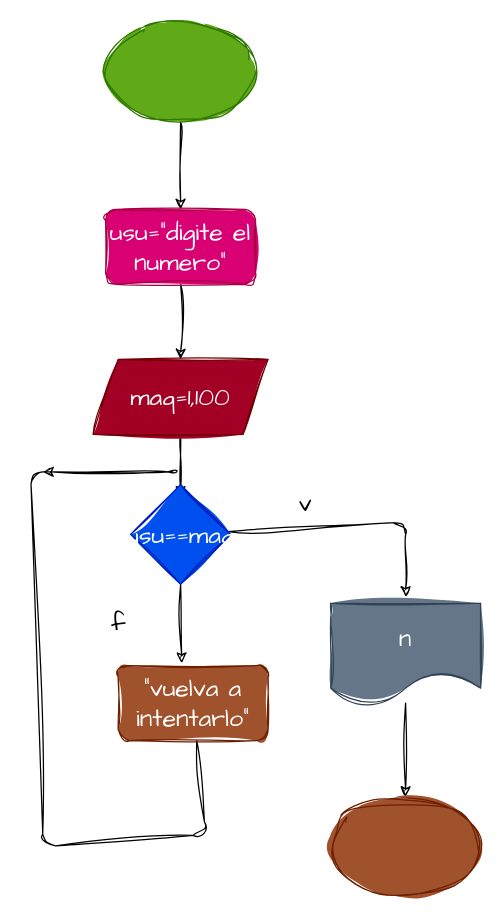
The diagram is 503 pixels wide and 919 high, and some of its shapes have lost their labels. Each missing label, with the box of its shape:
fin: (329, 796, 481, 897)
inicio: (104, 21, 256, 122)
